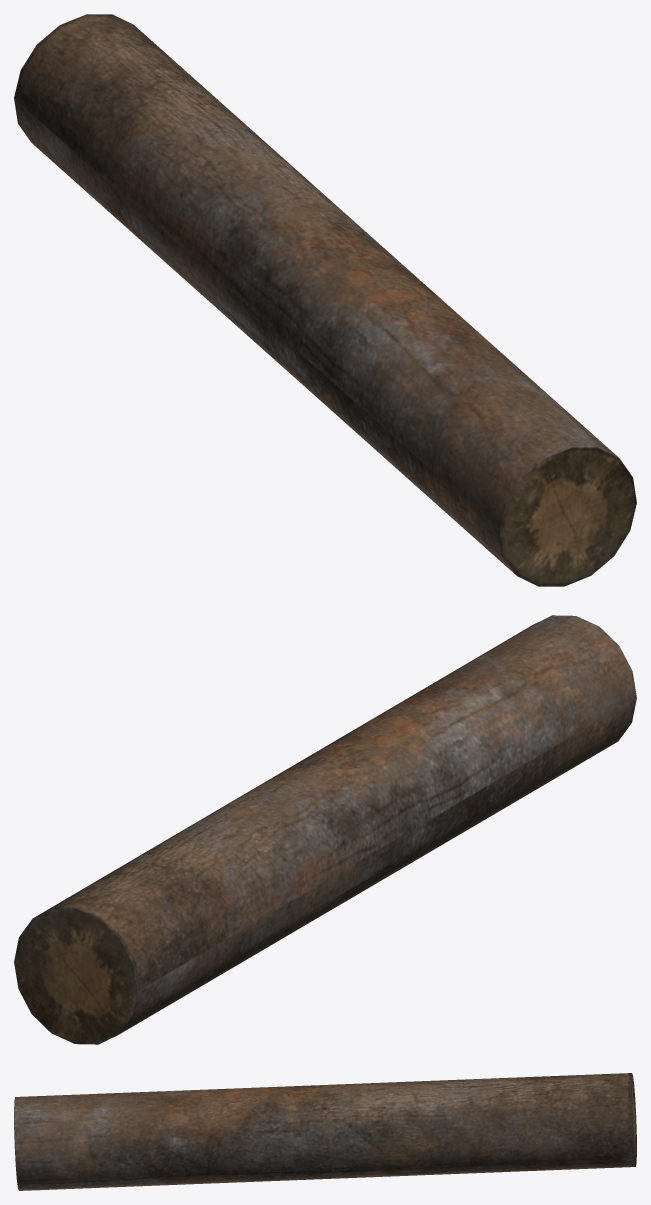
The model's file is SupportWoodA.glb.
The picture shows the model from 3 angles, top to bottom: view 1: azimuth 30°, elevation 25°; view 2: azimuth 150°, elevation 25°; view 3: azimuth 270°, elevation 25°; orthographic projection. The views are drawn at different scales.
Visible parts, largest first — view 1: SupportWoodA; view 2: SupportWoodA; view 3: SupportWoodA.
Part boxes in pixels (x1,y1,x2,y2): SupportWoodA: (14, 14, 636, 586); SupportWoodA: (14, 615, 636, 1044); SupportWoodA: (14, 1073, 636, 1190).
Size of the model in its own units: 0.2056 by 0.2363 by 1.14.
1 material, 1 textured.
